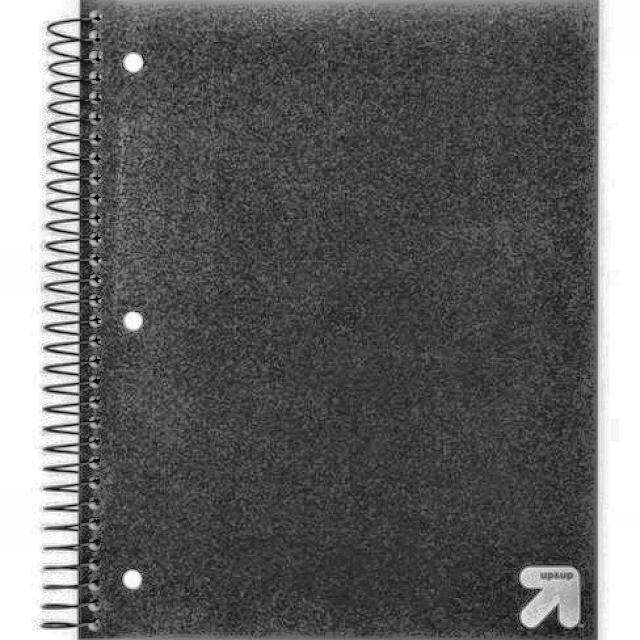Notebook: (38, 3, 614, 640)
